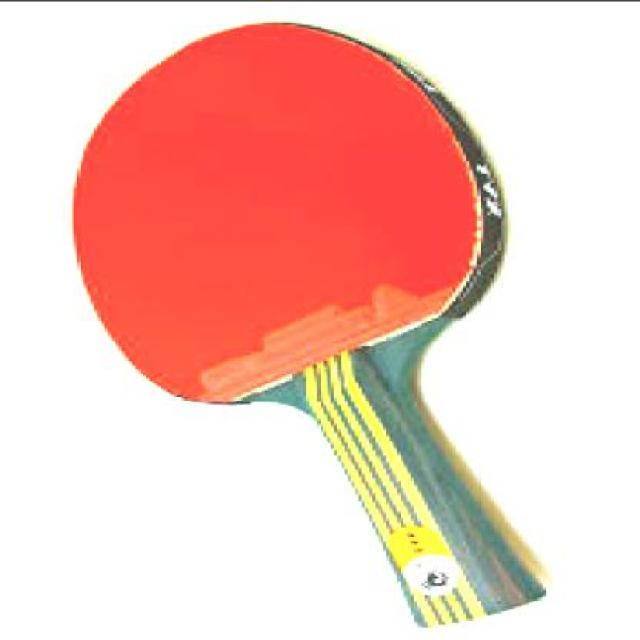table_tennis_racket: (69, 22, 548, 631)
